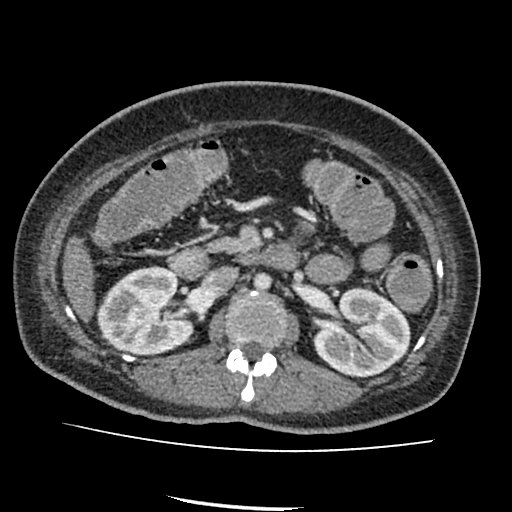aorta: (250, 269, 274, 294)
